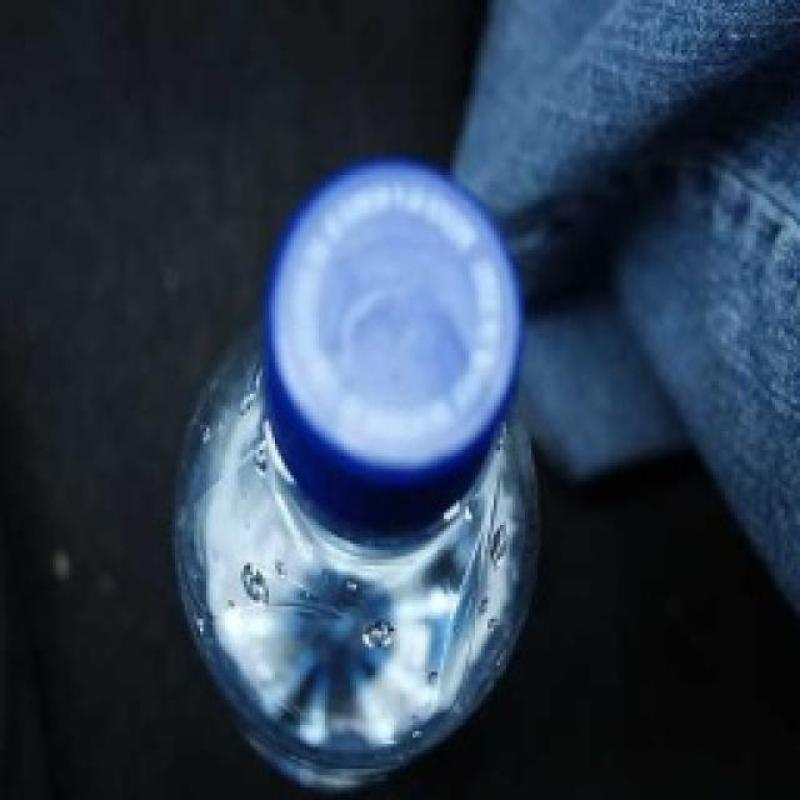botella: (158, 160, 544, 791)
